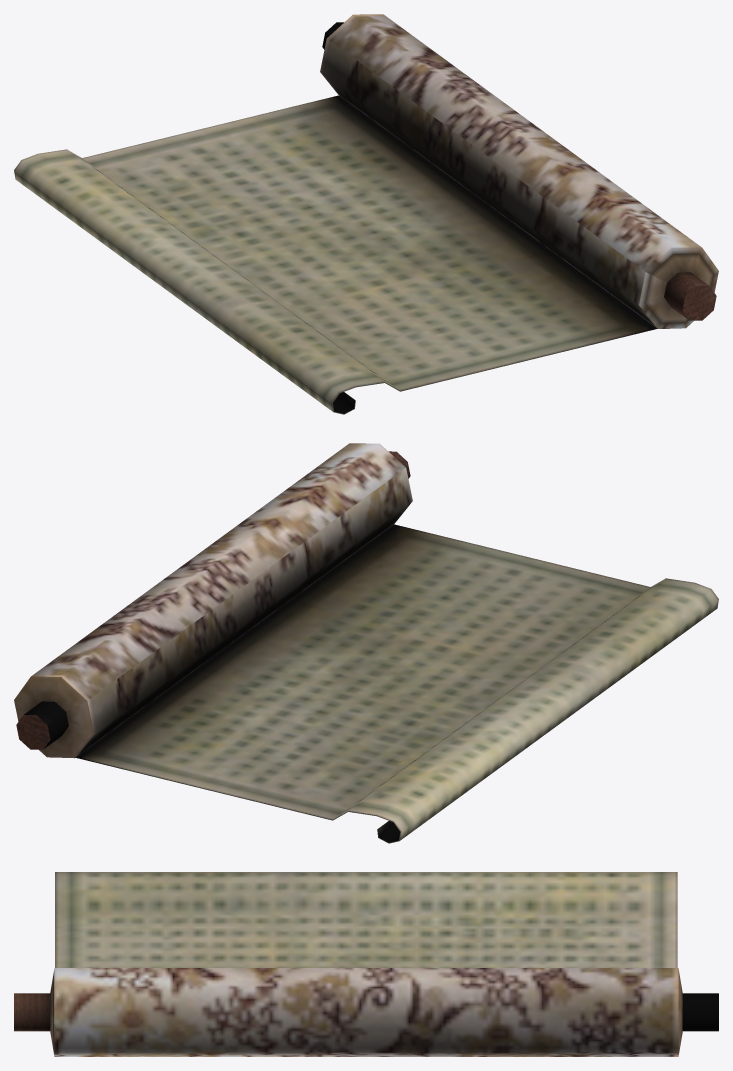
File: Scroll1.FBX
3 views of the same model, one above another, from view 1: azimuth 30°, elevation 25°; view 2: azimuth 150°, elevation 25°; view 3: azimuth 270°, elevation 25° (orthographic). The views are drawn at different scales.
Visible parts, largest first — view 1: scroll1; view 2: scroll1; view 3: scroll1.
Boxes of the visible parts, box(x1,y1,x2,y2) form: scroll1: box(14, 14, 718, 414); scroll1: box(14, 443, 718, 843); scroll1: box(14, 872, 718, 1056).
Bounding box in the file's own units: 14.32 × 3.09 × 23.11.
